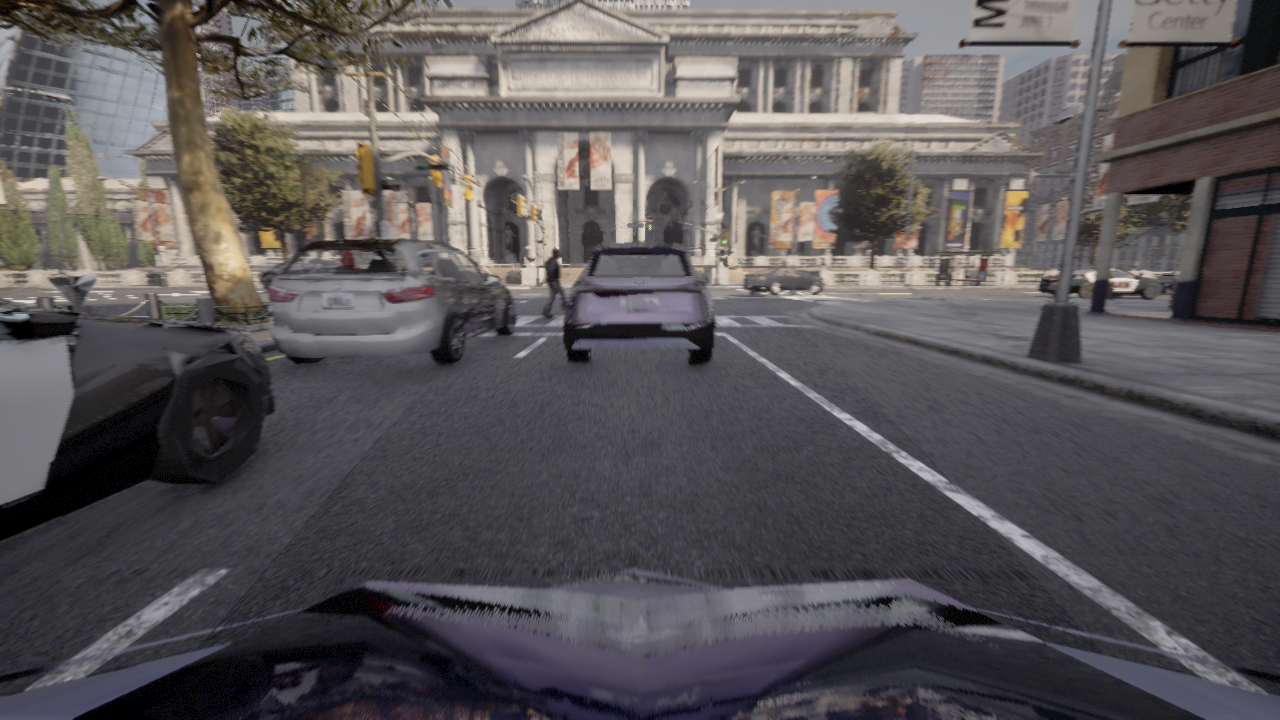cyclist: (0, 569, 1279, 719), (0, 274, 274, 541), (269, 239, 515, 363), (564, 242, 714, 365), (1038, 267, 1162, 298), (742, 268, 824, 296), (259, 262, 286, 291), (1158, 271, 1178, 293)
pedestrian: (542, 249, 566, 317)
